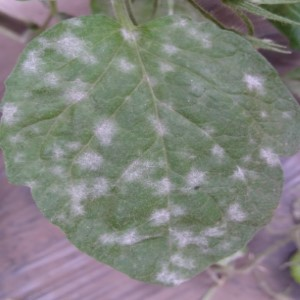oidio: (49, 32, 99, 69), (120, 159, 164, 183), (63, 181, 88, 218), (98, 230, 146, 247), (92, 117, 118, 147), (186, 26, 218, 48), (170, 231, 207, 248), (243, 73, 268, 97), (170, 252, 200, 272), (156, 267, 185, 285), (226, 201, 248, 224), (78, 153, 105, 171), (23, 52, 40, 79), (90, 179, 111, 200), (3, 104, 19, 131), (150, 177, 171, 196), (64, 86, 86, 104), (261, 148, 280, 168), (149, 208, 169, 227), (232, 166, 251, 186), (113, 58, 134, 76), (160, 41, 180, 59), (151, 120, 171, 137), (186, 169, 204, 187), (205, 223, 225, 238), (210, 144, 226, 161), (119, 27, 137, 42), (47, 165, 67, 178), (159, 59, 174, 76), (46, 72, 60, 87), (172, 204, 186, 218), (50, 148, 62, 161), (66, 141, 78, 151)
